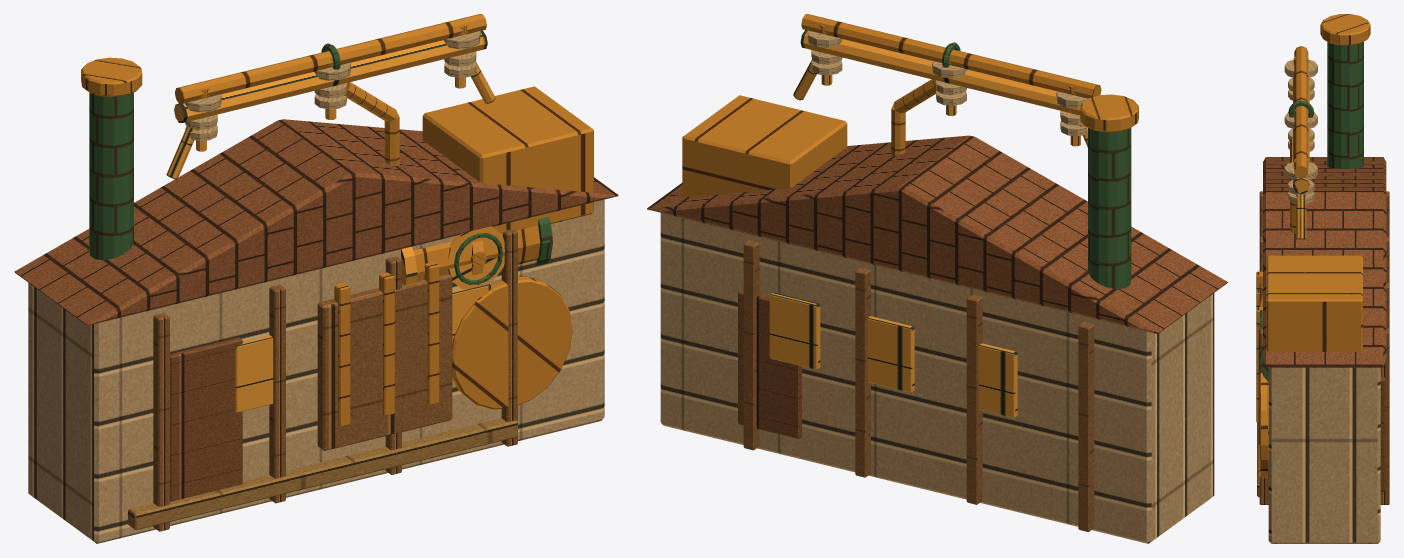
The model's file is stamp-mill.e3.glb.
3 renders of one model, left to right at view 1: azimuth 30°, elevation 25°; view 2: azimuth 150°, elevation 25°; view 3: azimuth 270°, elevation 25°, orthographic. The views are drawn at different scales.
Parts seen in each view (by area): view 1: StampMillE3; view 2: StampMillE3; view 3: StampMillE3.
Part boxes in pixels (x1,y1,x2,y2): StampMillE3: (14,14,618,543); StampMillE3: (647,14,1227,543); StampMillE3: (1256,14,1389,543).
Bounding box in the file's own units: 5.95 × 4.56 × 1.6.
Materials: 1 (1 with a texture image).
